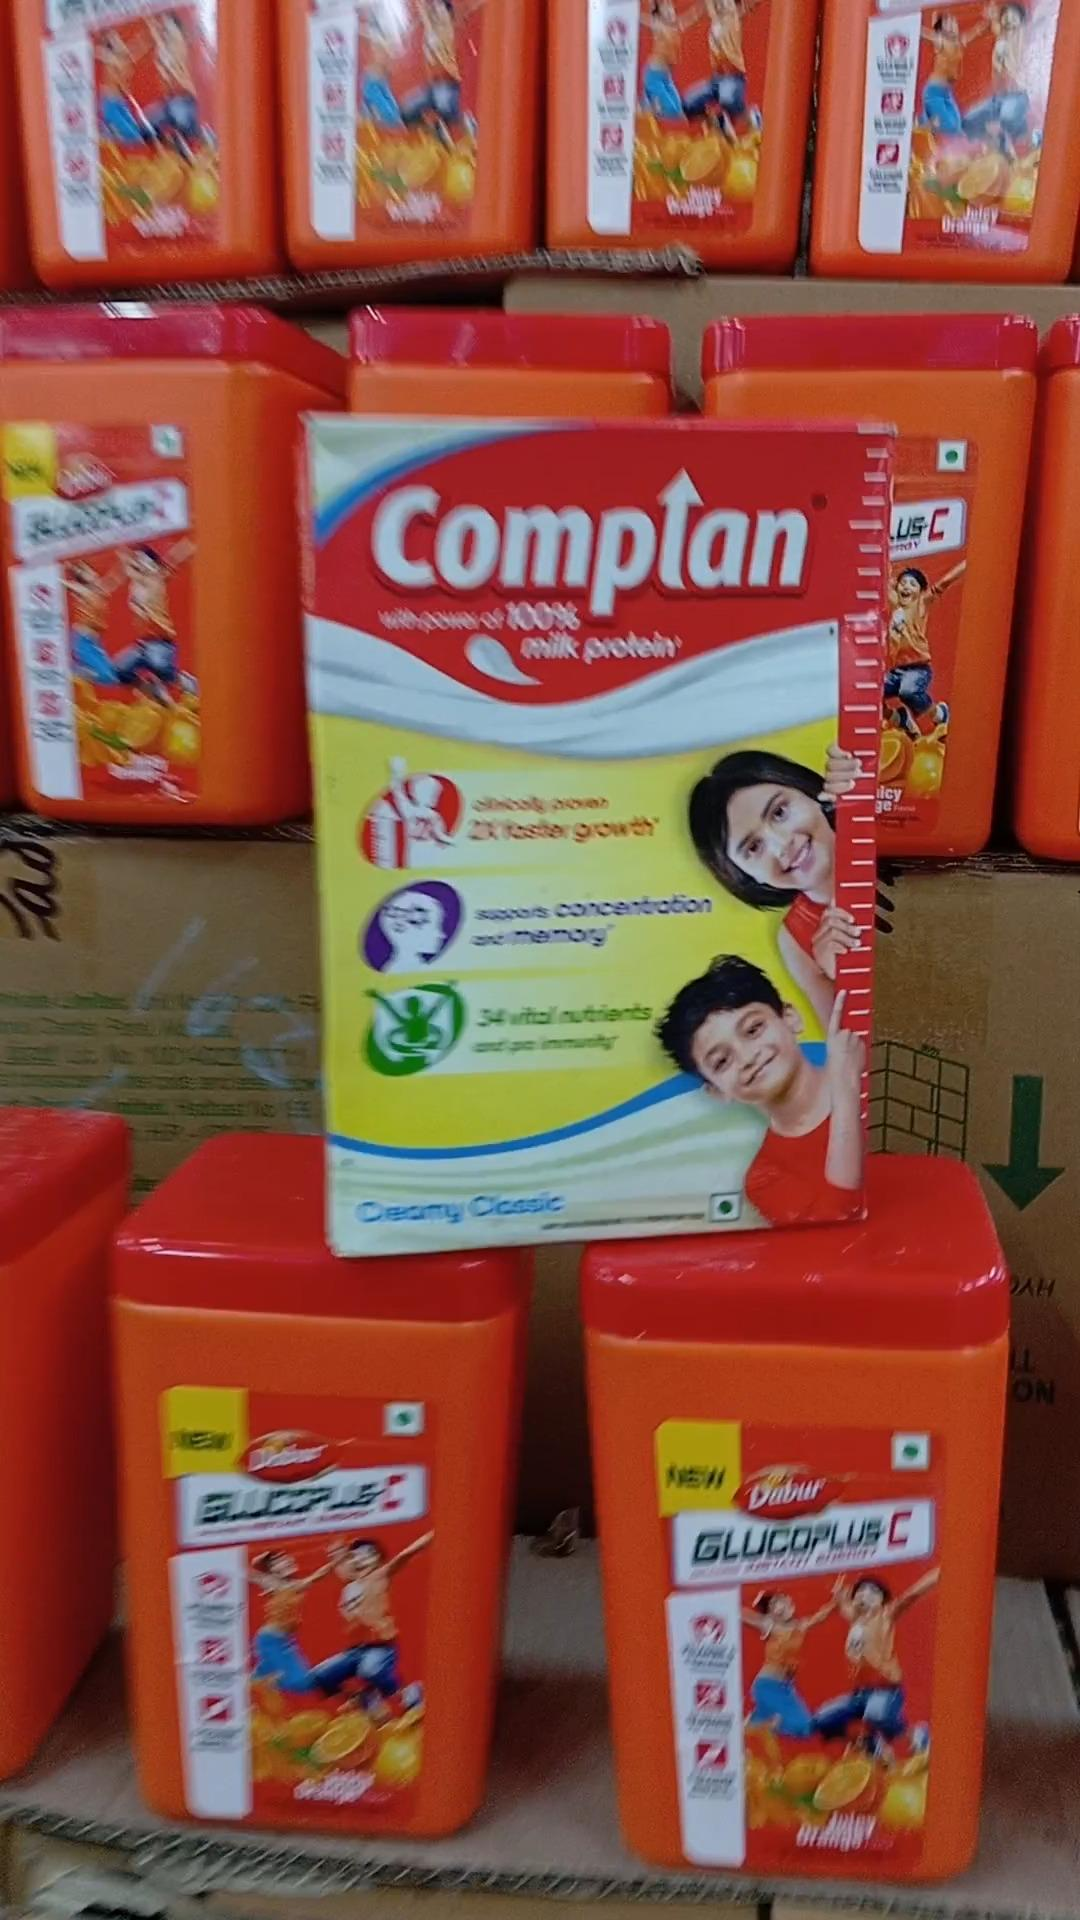COMPLAN_CREAMY_CLASSIC_500_G_PACK: (323, 404, 855, 1244)
